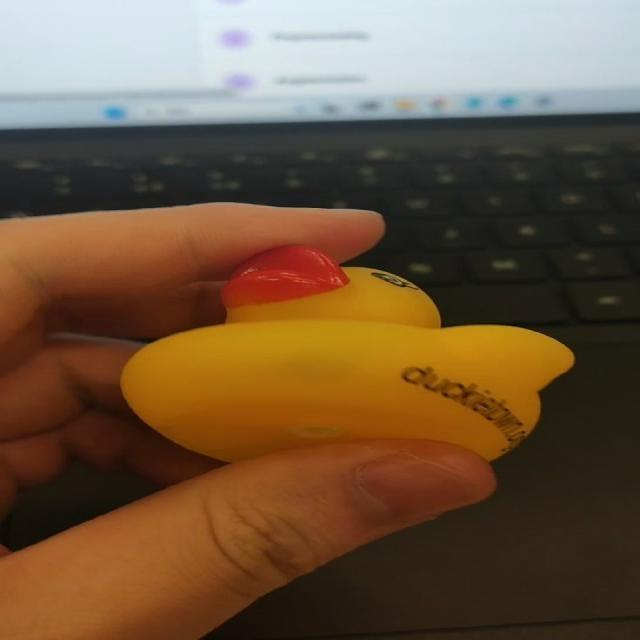rubber-duck: (120, 245, 572, 459)
